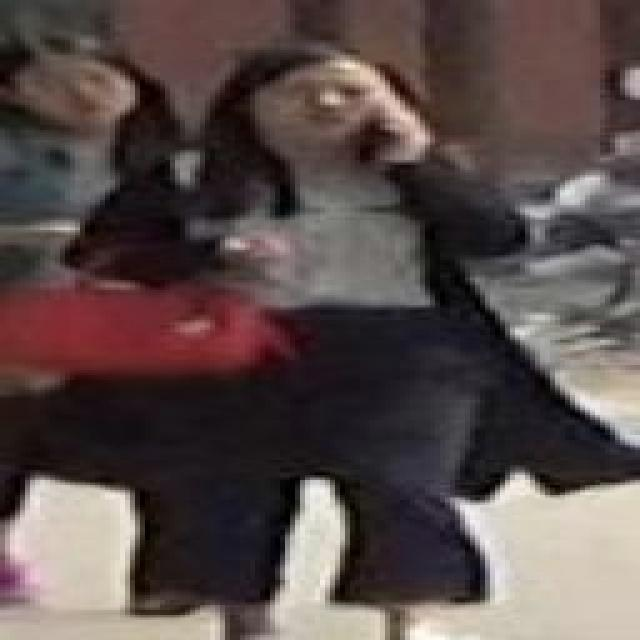adult: (66, 38, 558, 640), (0, 34, 203, 609)
